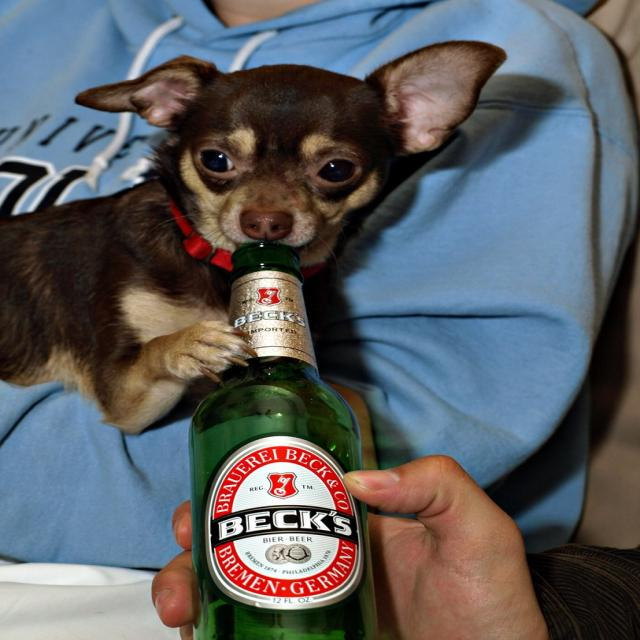becks: (206, 437, 363, 610)
